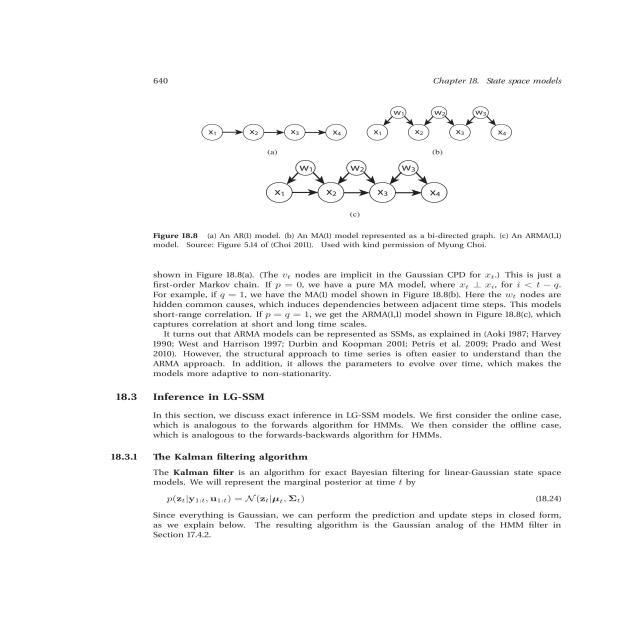diagram: (122, 92, 594, 256)
